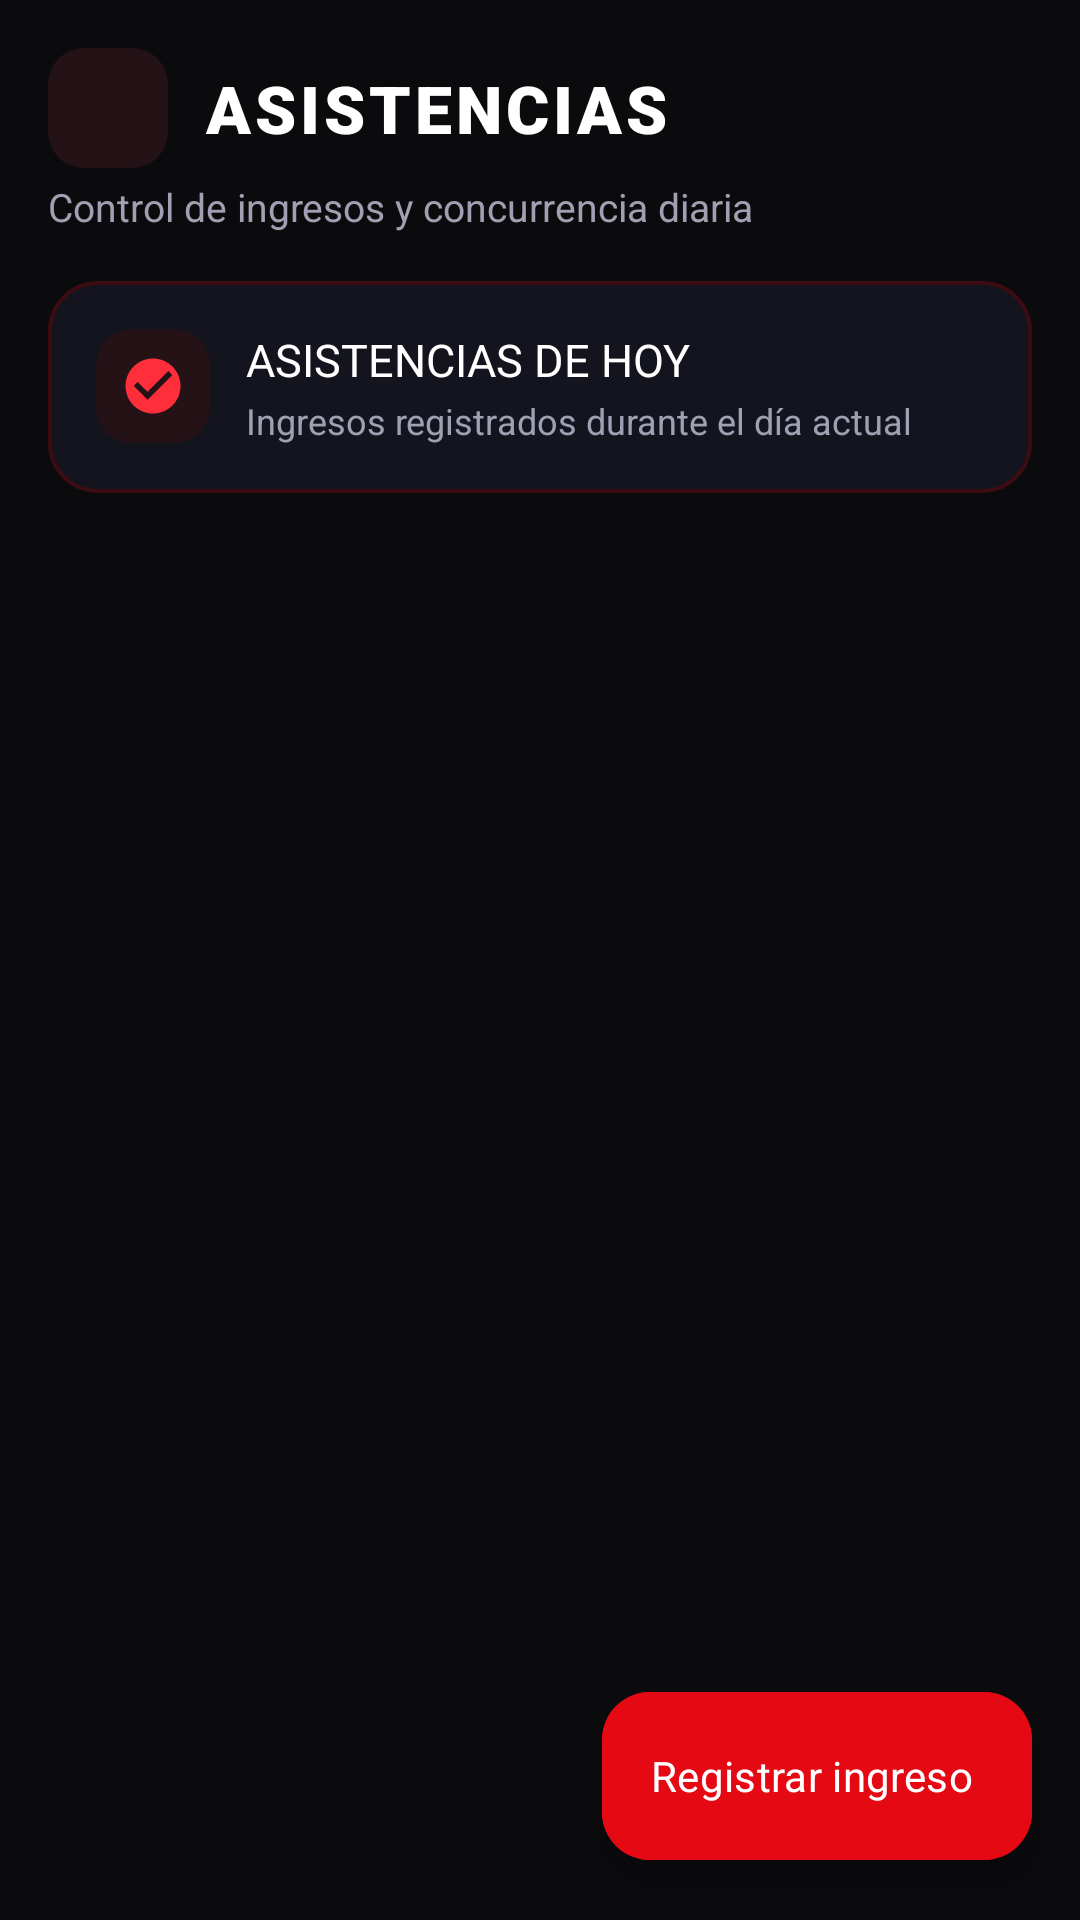

Screen size 1080x1920. Icon name, then its box in pixels as (x1, y1, x2, y2):
check circle: (125, 358, 181, 414)
